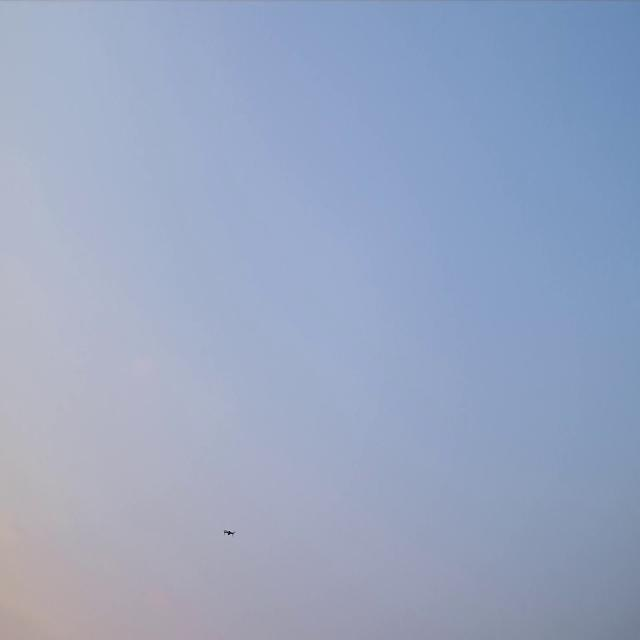UAV: (222, 529, 235, 537)
